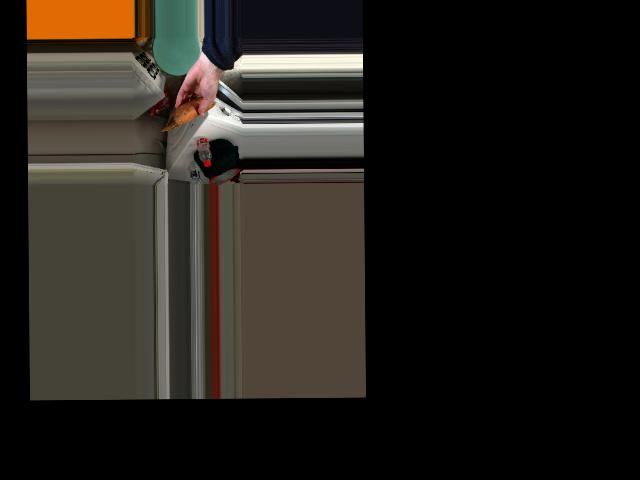sweet_potato: (176, 94, 209, 123)
